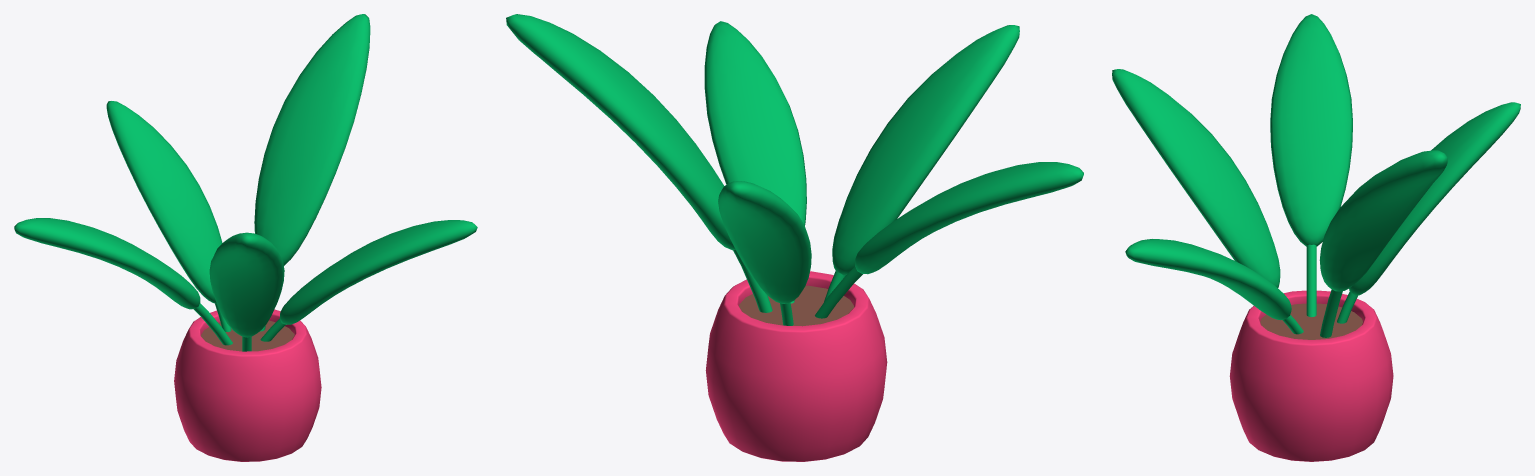
File: Town_14_Plant_1.glb
The picture shows the model from 3 angles, left to right: view 1: azimuth 30°, elevation 25°; view 2: azimuth 150°, elevation 25°; view 3: azimuth 270°, elevation 25°; orthographic projection. The views are drawn at different scales.
Visible parts, largest first — view 1: Town_14_Plant_1; view 2: Town_14_Plant_1; view 3: Town_14_Plant_1.
Boxes of the visible parts, bbox=[...] form: Town_14_Plant_1: bbox=[14, 14, 477, 461]; Town_14_Plant_1: bbox=[506, 14, 1083, 461]; Town_14_Plant_1: bbox=[1112, 14, 1520, 461].
Size of the model in its own units: 1.57 by 1.24 by 1.22.
Materials: 1 (1 with a texture image).
